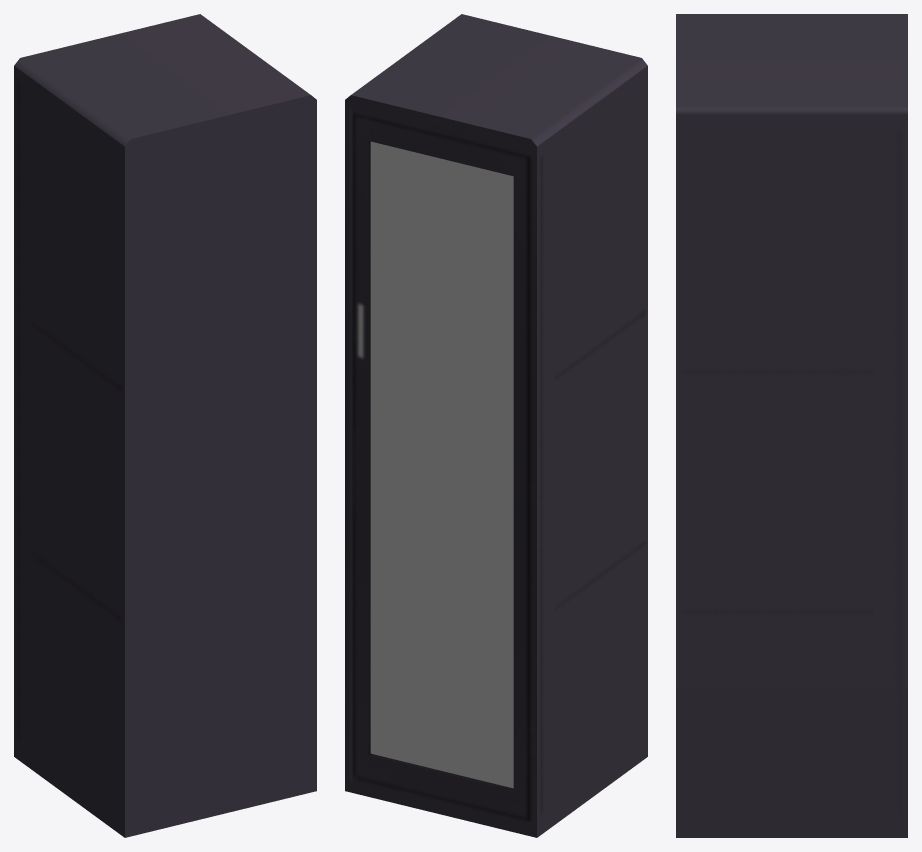
File: Servers.fbx
3 renders of one model, left to right at view 1: azimuth 30°, elevation 25°; view 2: azimuth 150°, elevation 25°; view 3: azimuth 270°, elevation 25°, orthographic. The views are drawn at different scales.
Parts seen in each view (by area): view 1: Object_2; view 2: Object_2; view 3: Object_2.
Boxes of the visible parts, x1,y1,x2,y2 form: Object_2: (14,14,316,837); Object_2: (345,14,647,837); Object_2: (676,14,907,837).
Bounding box in the file's own units: 401 × 1392 × 401.
2 materials, 1 textured.
